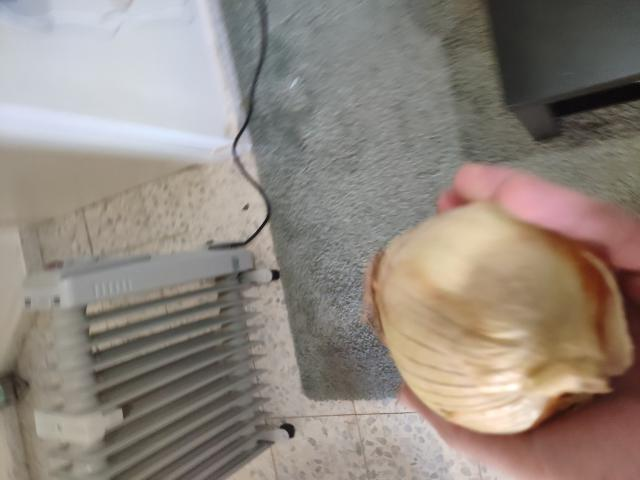onion: (359, 206, 615, 449)
